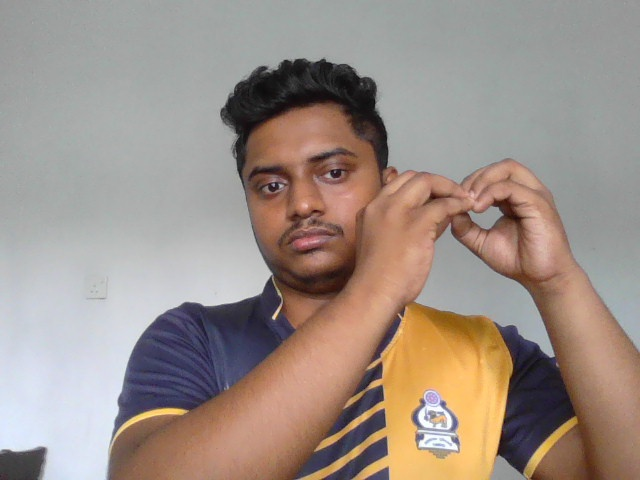More: (345, 160, 578, 306)
